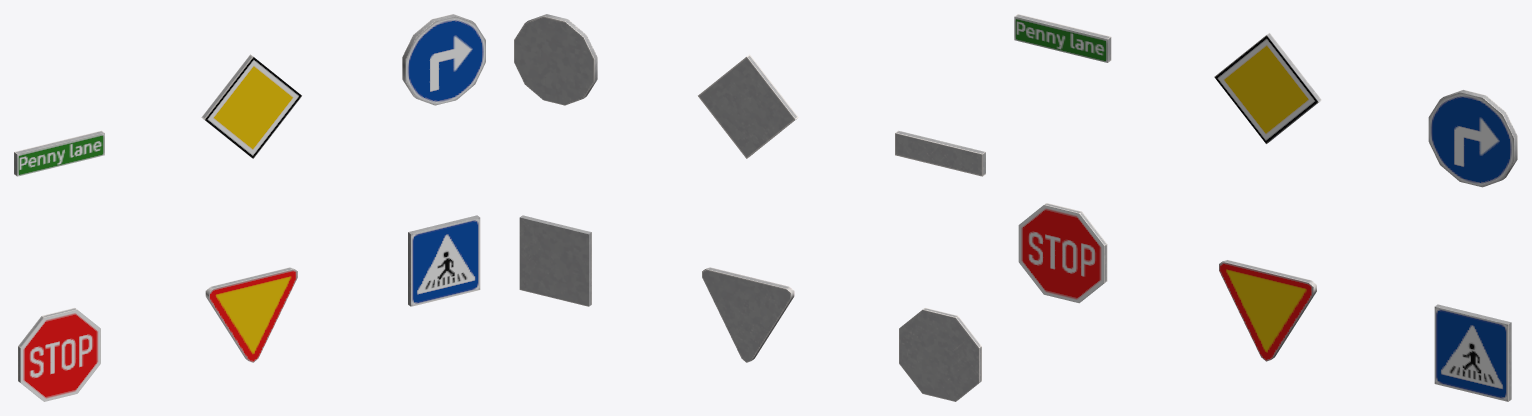
The model's file is Traffic_Signs.fbx.
The picture shows the model from 3 angles, left to right: view 1: azimuth 30°, elevation 25°; view 2: azimuth 150°, elevation 25°; view 3: azimuth 330°, elevation 25°; orthographic projection. The views are drawn at different scales.
Visible parts, largest first — view 1: polySurface403, polySurface407, polySurface405, polySurface404, polySurface406, polySurface402; view 2: polySurface403, polySurface407, polySurface405, polySurface404, polySurface406, polySurface402; view 3: polySurface403, polySurface407, polySurface405, polySurface404, polySurface406, polySurface402.
Part boxes in pixels (box(x1,y1,x2,y2)): polySurface403: box(18, 308, 100, 401); polySurface407: box(402, 14, 485, 105); polySurface405: box(408, 215, 480, 306); polySurface404: box(201, 54, 301, 158); polySurface406: box(205, 267, 297, 362); polySurface402: box(14, 130, 104, 176); polySurface403: box(899, 308, 981, 401); polySurface407: box(514, 14, 597, 105); polySurface405: box(519, 215, 591, 306); polySurface404: box(698, 54, 798, 158); polySurface406: box(702, 267, 794, 362); polySurface402: box(895, 130, 985, 176); polySurface403: box(1018, 203, 1107, 303); polySurface407: box(1428, 89, 1517, 187); polySurface405: box(1434, 304, 1511, 401); polySurface404: box(1214, 33, 1321, 143); polySurface406: box(1219, 260, 1316, 361); polySurface402: box(1014, 14, 1111, 62).
Bounding box in the file's own units: 244 × 152 × 3.04.
